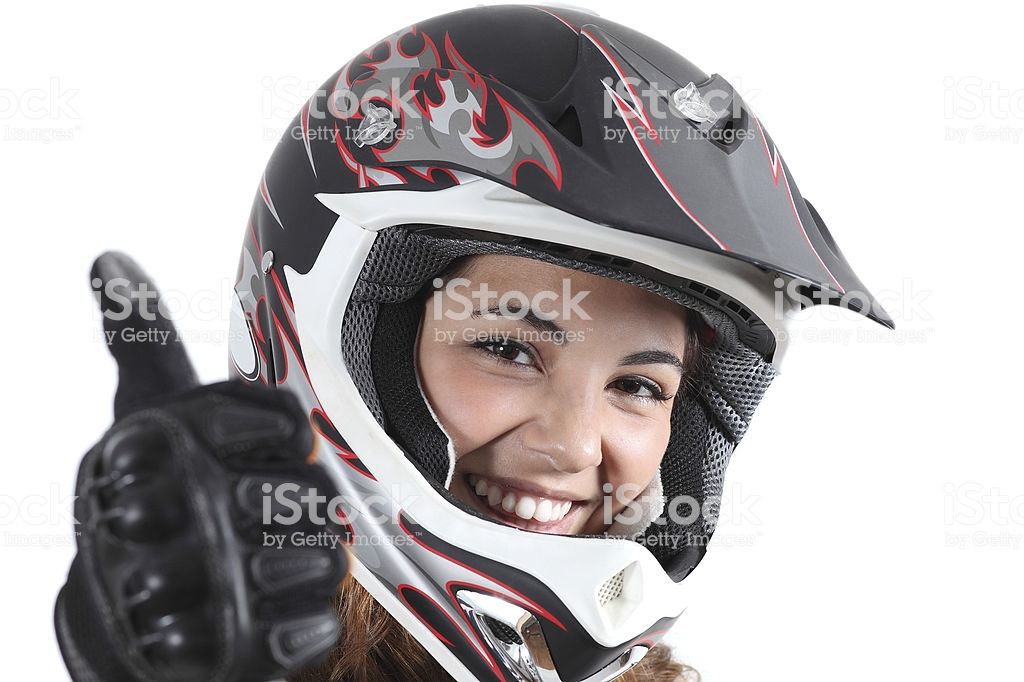helmet: (258, 24, 812, 651)
